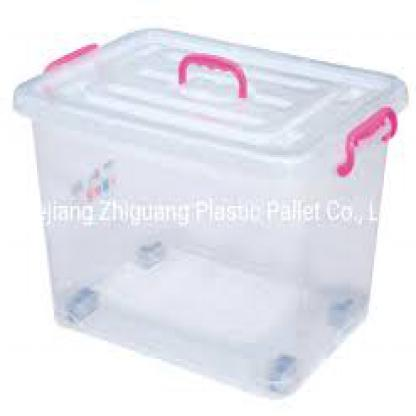plastic_box: (10, 16, 411, 402)
